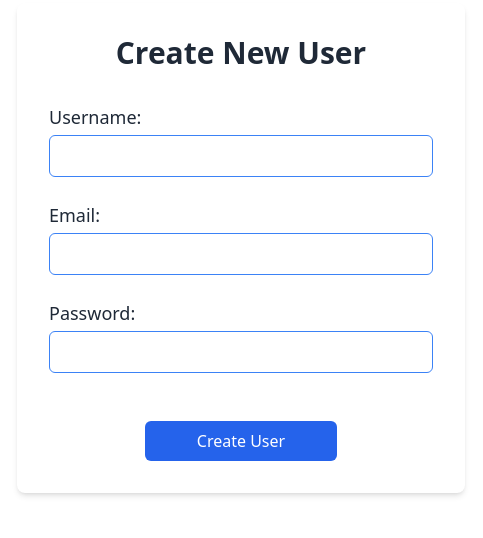
Test: CreateUserForm Component › should show email taken message if email is already registered
This screenshot has width=483, height=538.
Note: Fill in the email field
Type "takenemail@example.com" into the field labelled "Email:" at (241, 254), box [49,233,433,275]
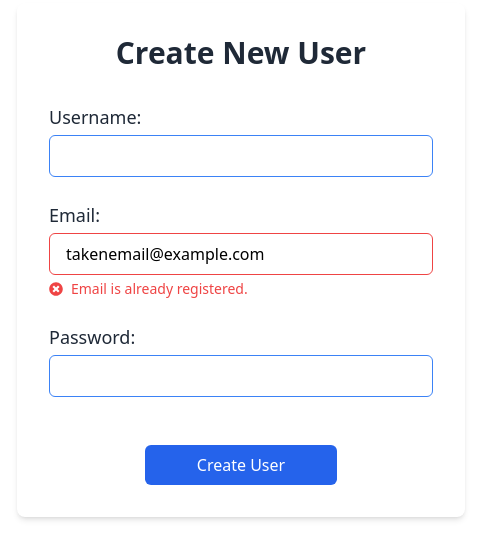
Now the text "Email is already registered." is shown, box [71,279,248,299]
